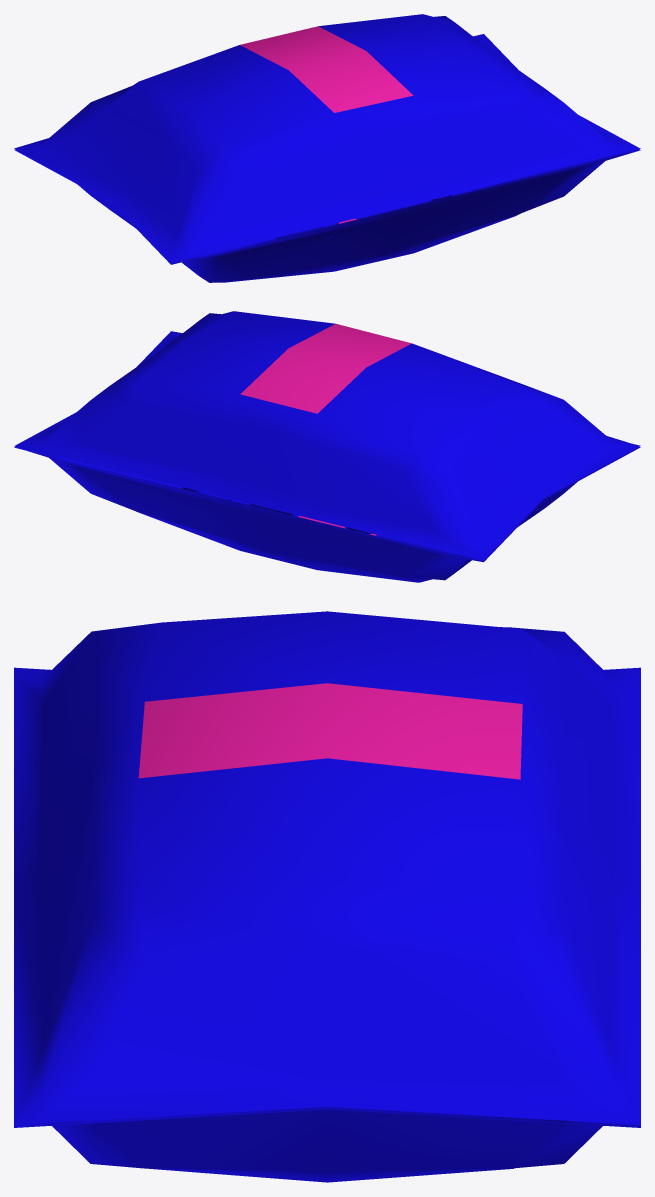
Rendered from Mesh_MarshmallowBag.fbx.
3 renders of one model, top to bottom at view 1: azimuth 30°, elevation 25°; view 2: azimuth 150°, elevation 25°; view 3: azimuth 270°, elevation 25°, orthographic. The views are drawn at different scales.
Visible parts, largest first — view 1: Cube; view 2: Cube; view 3: Cube.
Part boxes in pixels (left/top/right/bottom): Cube: left=14, top=14, right=640, bottom=282; Cube: left=14, top=311, right=640, bottom=582; Cube: left=14, top=611, right=640, bottom=1182.
Size of the model in its own units: 0.7085 by 0.2562 by 0.4103.
